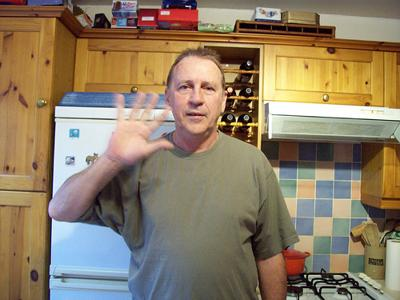person: (47, 50, 301, 300)
